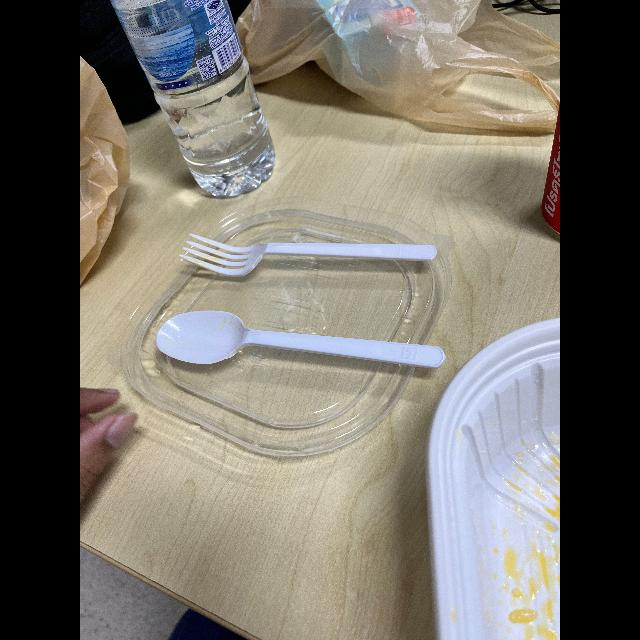plastic_cultery: (153, 298, 449, 382), (166, 214, 446, 290)
